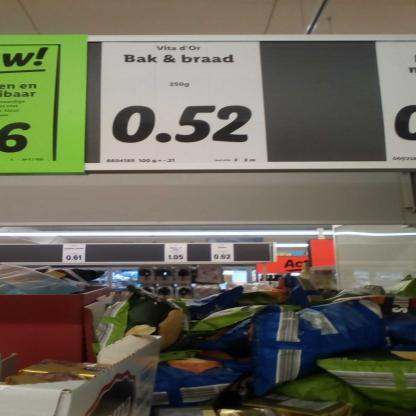prtg: (102, 43, 269, 165), (1, 45, 62, 163), (375, 42, 416, 163)
